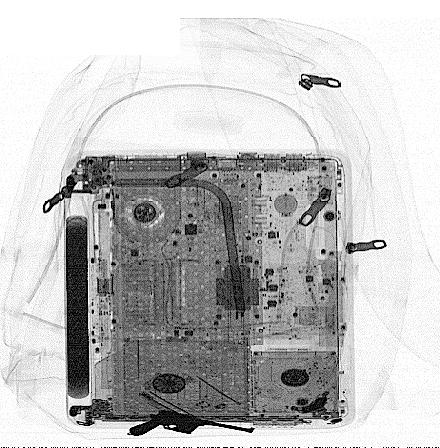Gun: (129, 408, 257, 438)
